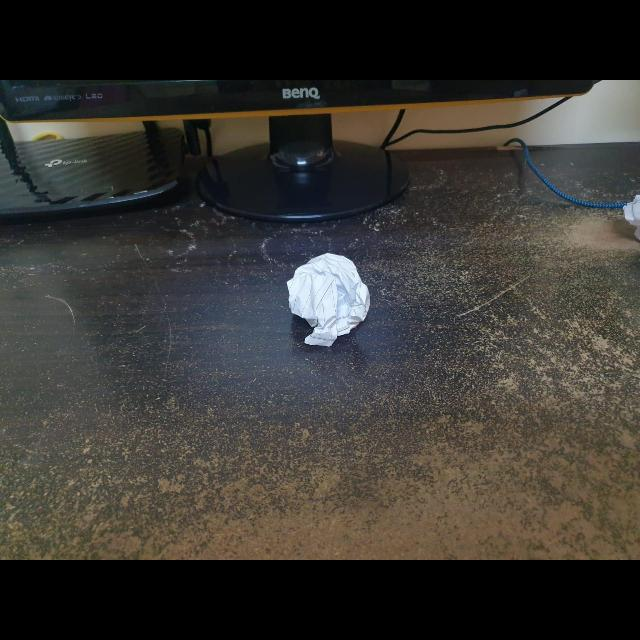scrap_paper: (288, 253, 374, 349)
